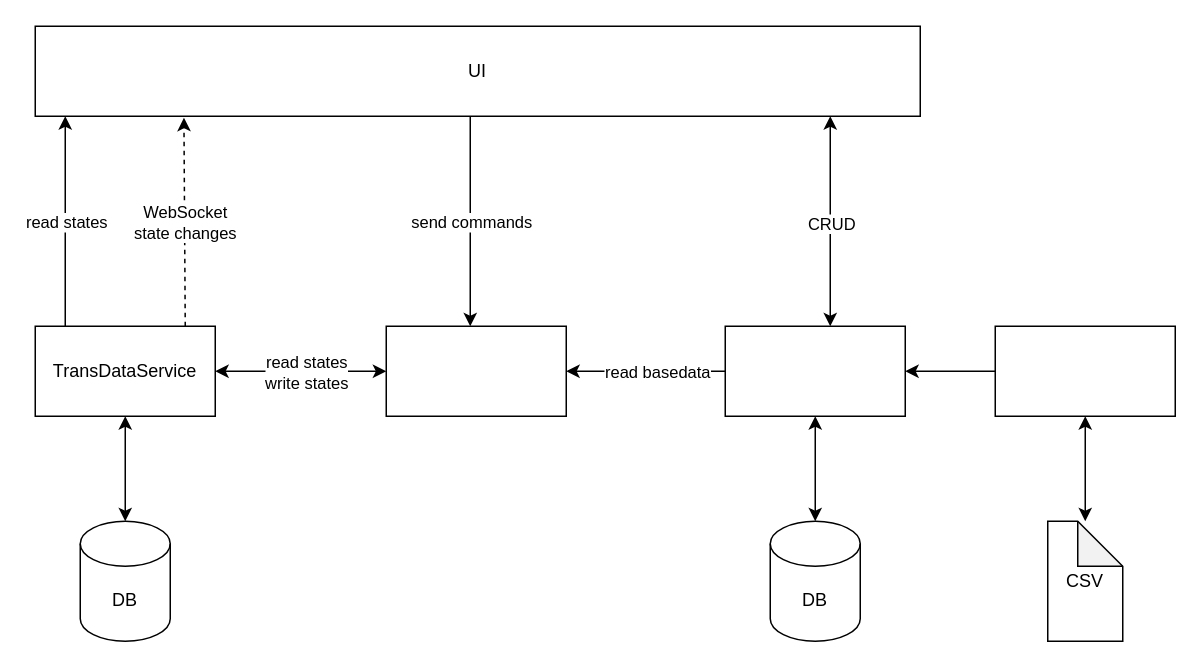
Some shapes in this 1202 by 668 pixel diagram are drawn without their labels. Here are the shapes that lost their labels. From the top down, the centre of each, then its label:
At (x=475, y=370): "DataSimulatorService".
At (x=814, y=370): "BaseDataService".
At (x=1084, y=370): "CSVConsole".
